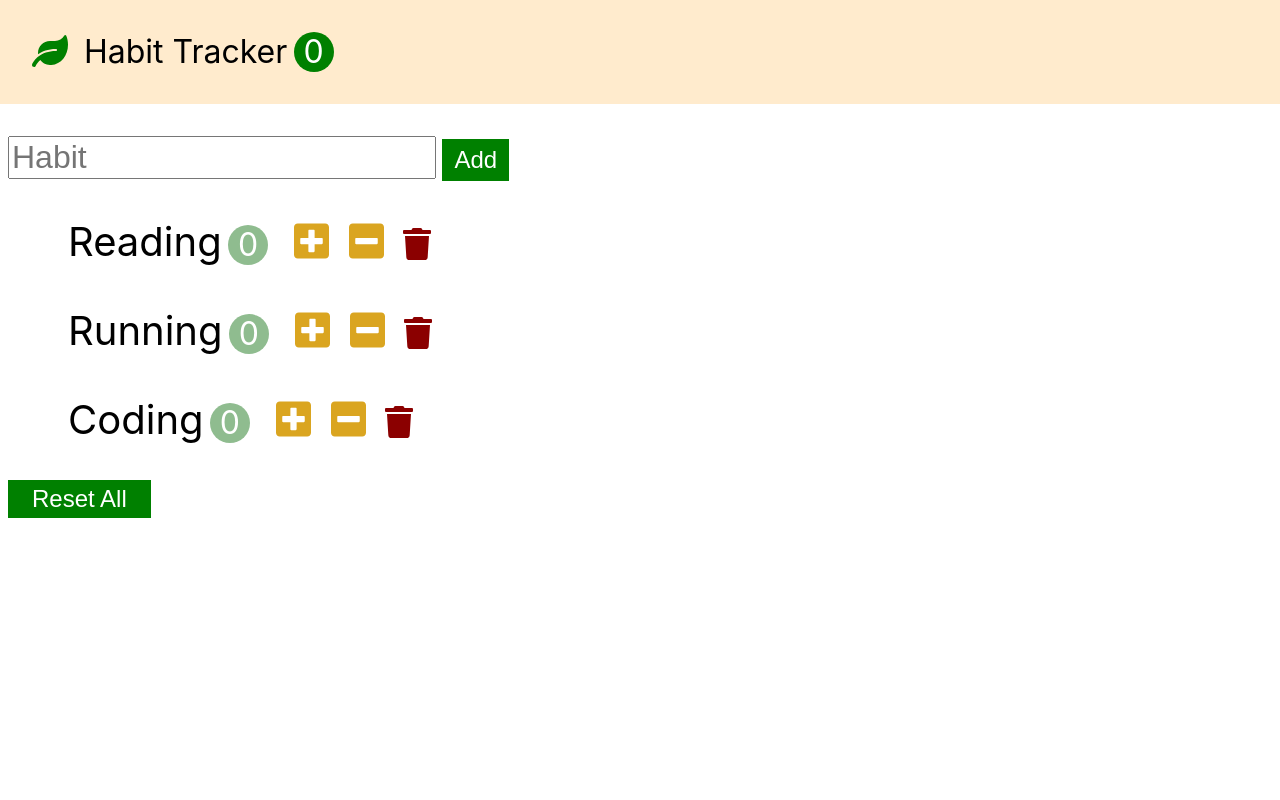
Test case: habit tracer › add new habit and increase habit count
In the field with placeholder "Habit": {"x": 222, "y": 158} x1=8 y1=136 x2=436 y2=179, type "Testing"
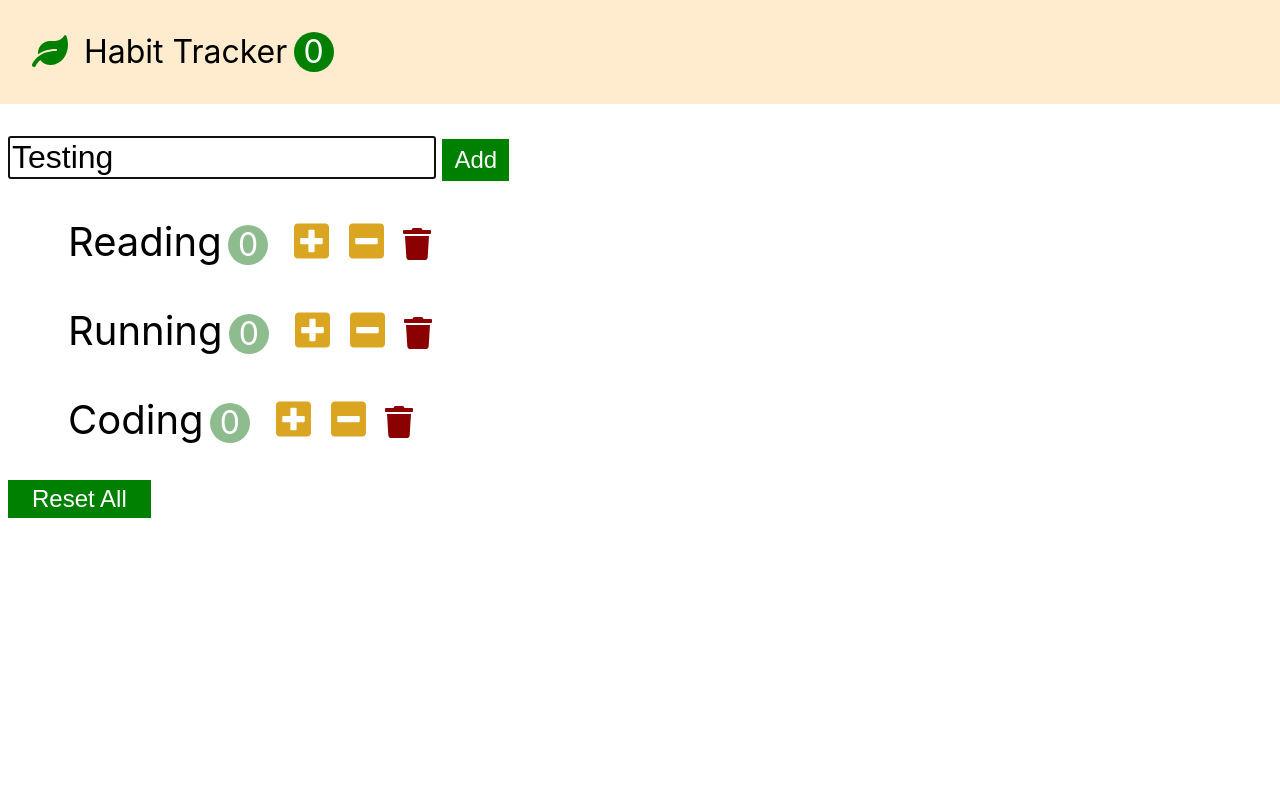
Click the button "Add": {"x": 476, "y": 160} x1=442 y1=139 x2=509 y2=181
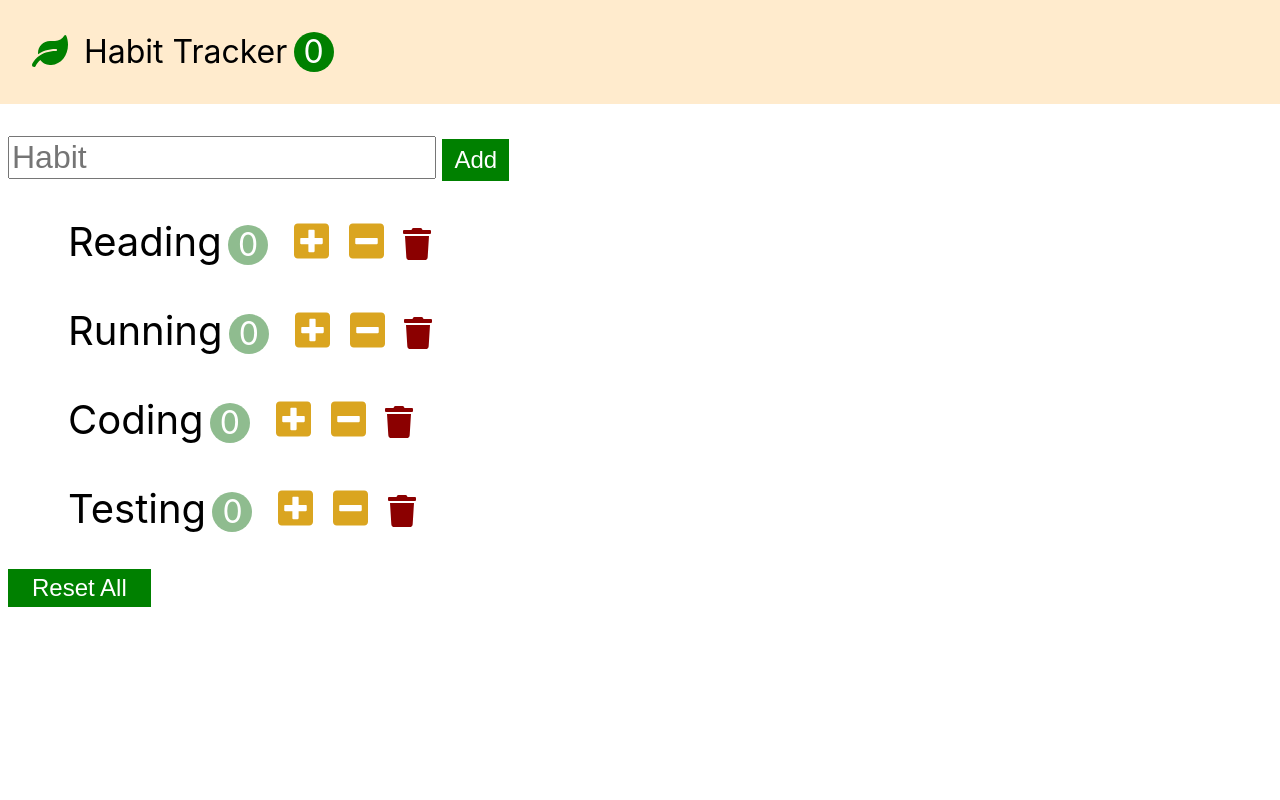
Click the button titled "increase" in the row of "Reading": {"x": 312, "y": 243} x1=288 y1=219 x2=335 y2=266
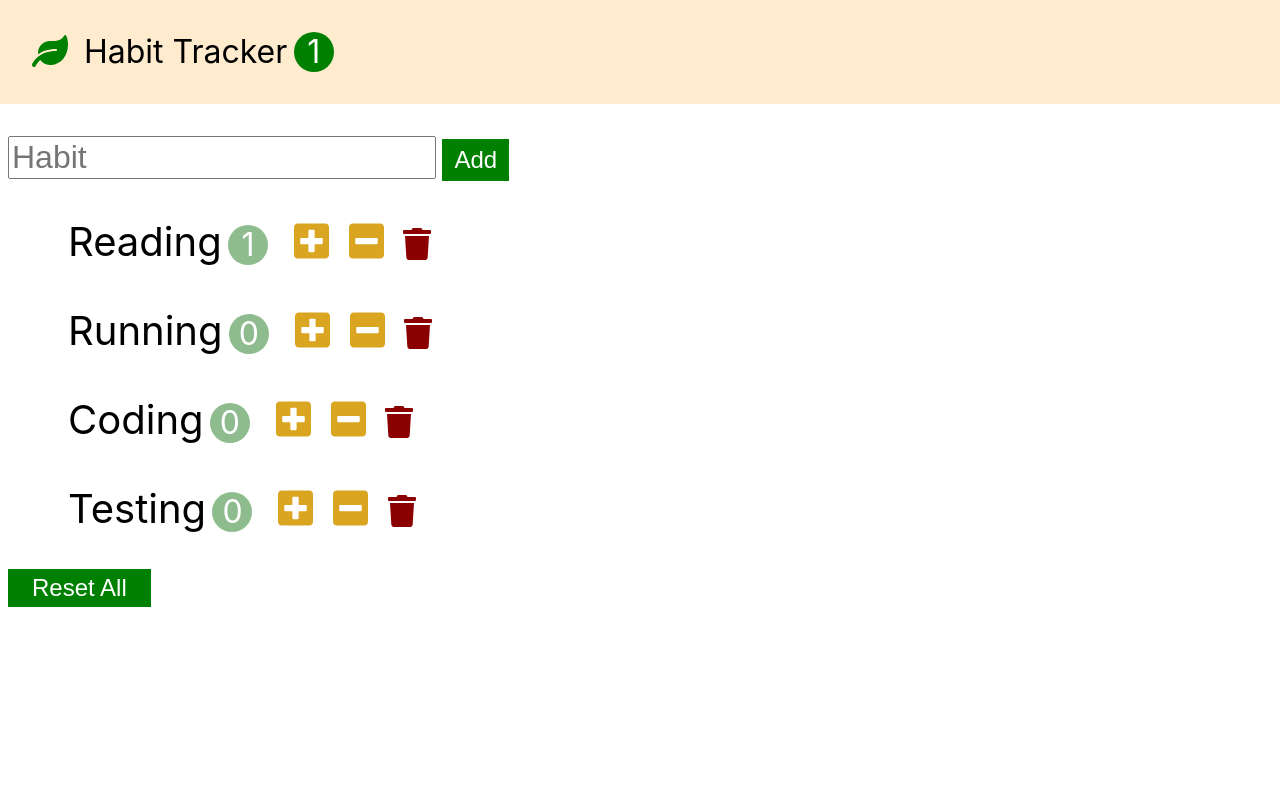
Click the button titled "increase" in the row of "Testing": {"x": 297, "y": 510} x1=273 y1=486 x2=320 y2=533
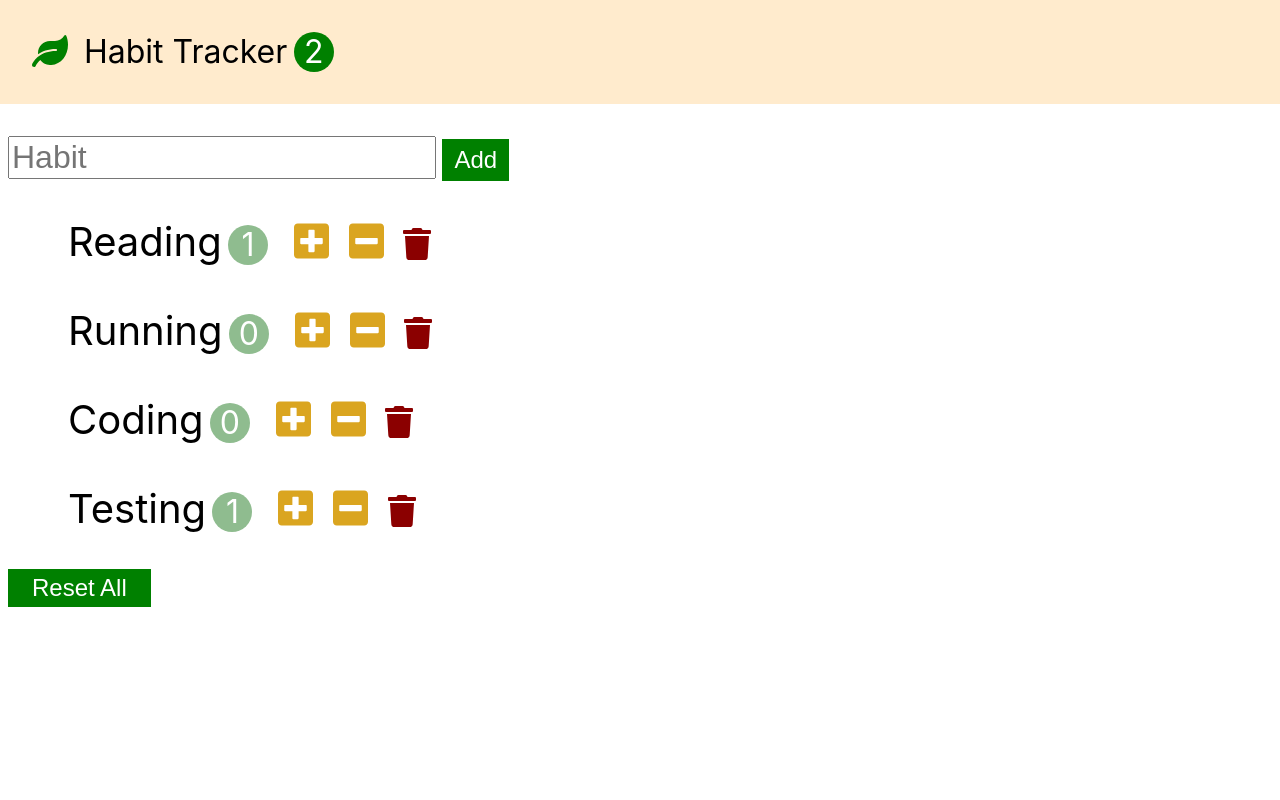
expect the text with test id "habit-count" next to "Reading" reads "1": met, box x1=228 y1=225 x2=268 y2=265
expect the text with test id "habit-count" next to "Testing" reads "1": met, box x1=213 y1=492 x2=253 y2=532
expect the text with test id "total-count" reads "2": met, box x1=294 y1=32 x2=334 y2=72
